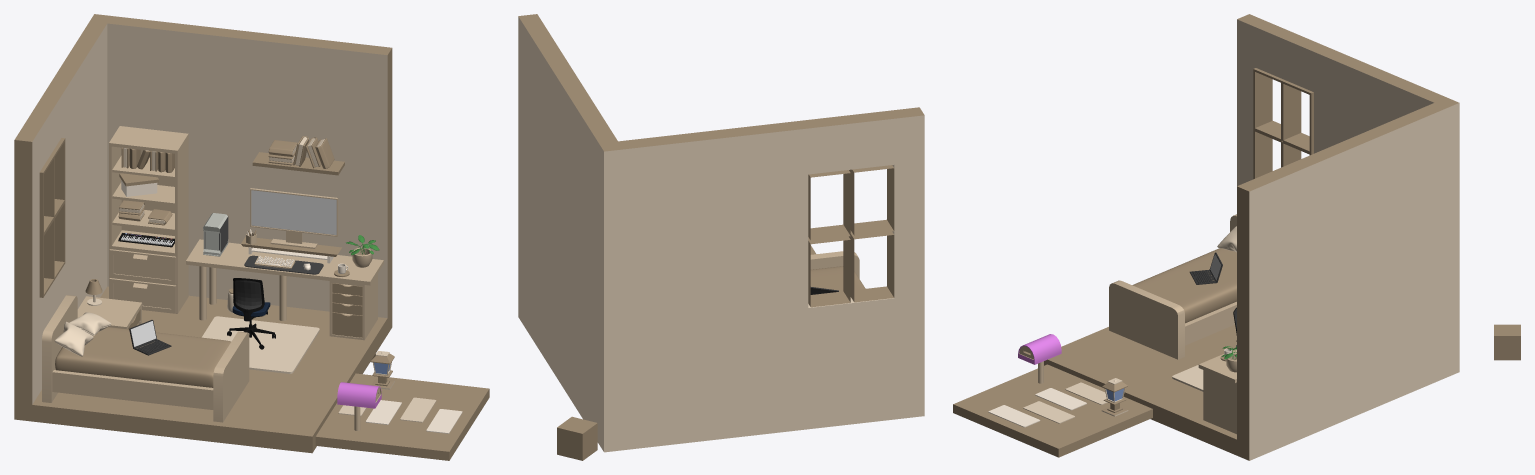
The model's file is room_group.glb.
3 views of the same model, side by side, from view 1: azimuth 30°, elevation 25°; view 2: azimuth 150°, elevation 25°; view 3: azimuth 270°, elevation 25° (orthographic). The views are drawn at different scales.
Parts seen in each view (by area): view 1: Room, Bed, Shelf, Outside, Table, Monitor, Floor Items, Shelf Items, Wall Shelf, Peripherals, Drawer.001, Mini Table (+8 smaller); view 2: Room, Cube, Bed; view 3: Room, Bed, Outside, Table, Mailbox, Cube, Lamp, Outside Carpet.001, Outside Carpet.003, Outside Carpet.002.
Boxes of the visible parts, x1,y1,x2,y2 form: Room: (14,14,392,453); Bed: (42,295,249,422); Shelf: (109,126,188,313); Outside: (315,373,489,460); Table: (186,239,383,340); Monitor: (250,188,338,248); Floor Items: (202,288,319,373); Shelf Items: (118,147,174,247); Wall Shelf: (252,136,344,175); Peripherals: (203,213,379,273); Drawer.001: (77,296,142,329); Mini Table: (241,229,341,263); Room: (518,14,924,452); Cube: (557,416,597,460); Bed: (810,251,865,291); Room: (1044,14,1459,460); Bed: (1109,214,1236,359); Outside: (953,364,1152,457); Table: (1198,349,1236,434); Mailbox: (1018,334,1061,383); Cube: (1494,324,1520,360); Lamp: (1101,378,1128,416); Outside Carpet.001: (1035,388,1086,410); Outside Carpet.003: (988,405,1040,427); Outside Carpet.002: (1023,401,1075,423).
Size of the model in its own units: 3.17 by 2.24 by 4.28.
21 materials, 1 textured.
